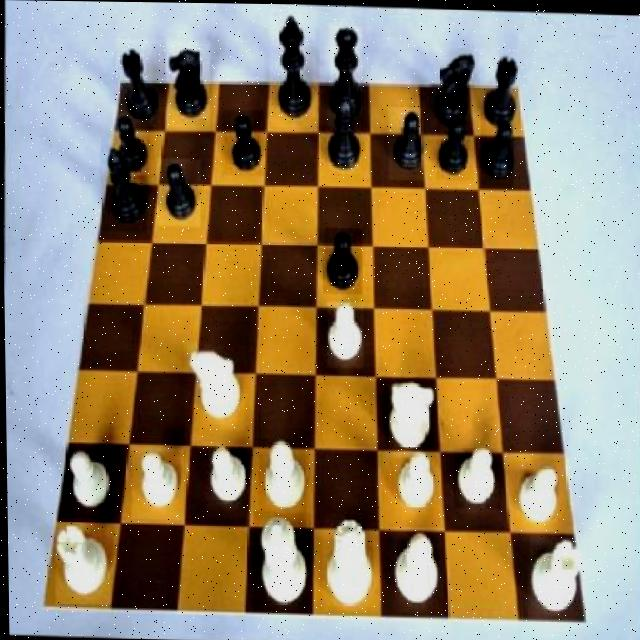bishop: (100, 144, 149, 232), (327, 91, 362, 173)
black-bishop: (268, 6, 317, 127)
black-king: (163, 39, 210, 127), (430, 45, 474, 128)
black-knight: (156, 157, 201, 227), (221, 110, 265, 175), (387, 104, 424, 179), (322, 225, 362, 293), (480, 112, 515, 186), (436, 117, 474, 180), (111, 112, 147, 175)
black-pawn: (328, 22, 363, 125)
black-queen: (114, 38, 161, 129), (479, 44, 525, 127)
black-rook: (391, 525, 444, 613), (256, 438, 307, 516)
white-bishop: (251, 509, 312, 612)
white-king: (184, 342, 246, 429), (383, 378, 436, 451)
white-knight: (129, 446, 183, 519), (64, 448, 116, 520), (204, 442, 248, 520), (391, 447, 438, 515), (452, 445, 501, 507), (516, 455, 557, 529), (326, 301, 364, 369)
white-pawn: (321, 519, 377, 610)
white-queen: (526, 532, 584, 619), (53, 525, 110, 605)
